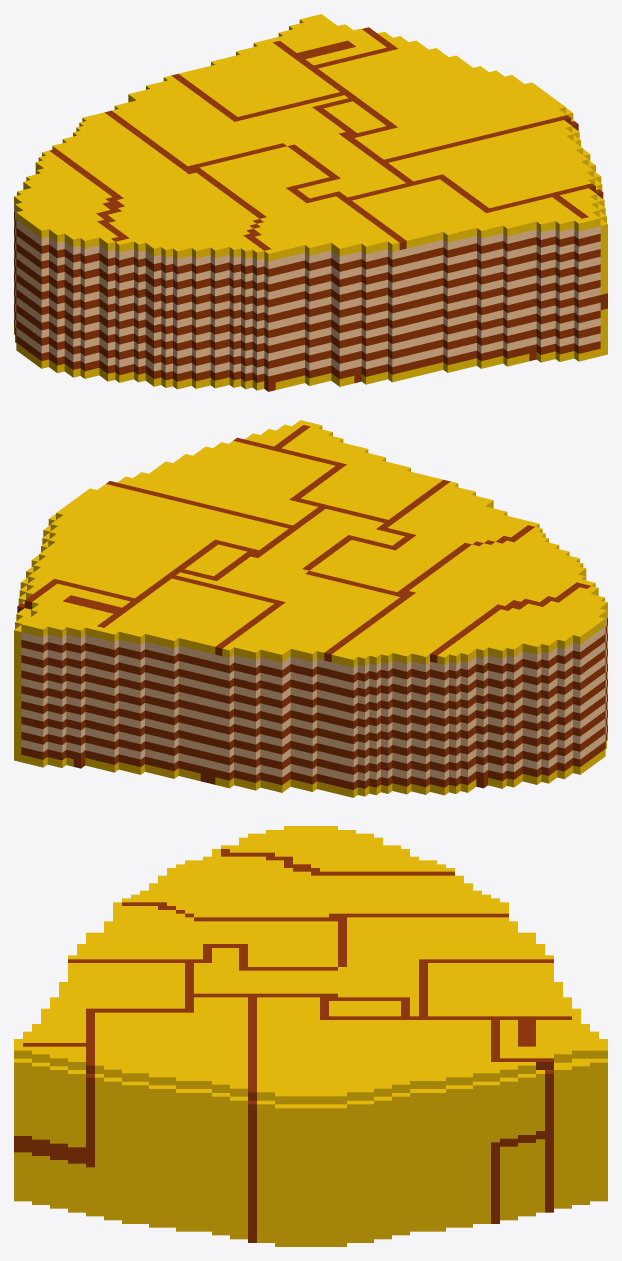
Rendered from MillCrepe.obj.
3 renders of one model, top to bottom at view 1: azimuth 30°, elevation 25°; view 2: azimuth 150°, elevation 25°; view 3: azimuth 270°, elevation 25°, orthographic. The views are drawn at different scales.
Visible parts, largest first — view 1: MillCrepe; view 2: MillCrepe; view 3: MillCrepe.
Boxes of the visible parts, box(x1,y1,x2,y2) form: MillCrepe: box(14, 14, 607, 391); MillCrepe: box(14, 420, 607, 797); MillCrepe: box(14, 826, 607, 1246).
Bounding box in the file's own units: 72 × 18 × 66.
Materials: 1 (1 with a texture image).
